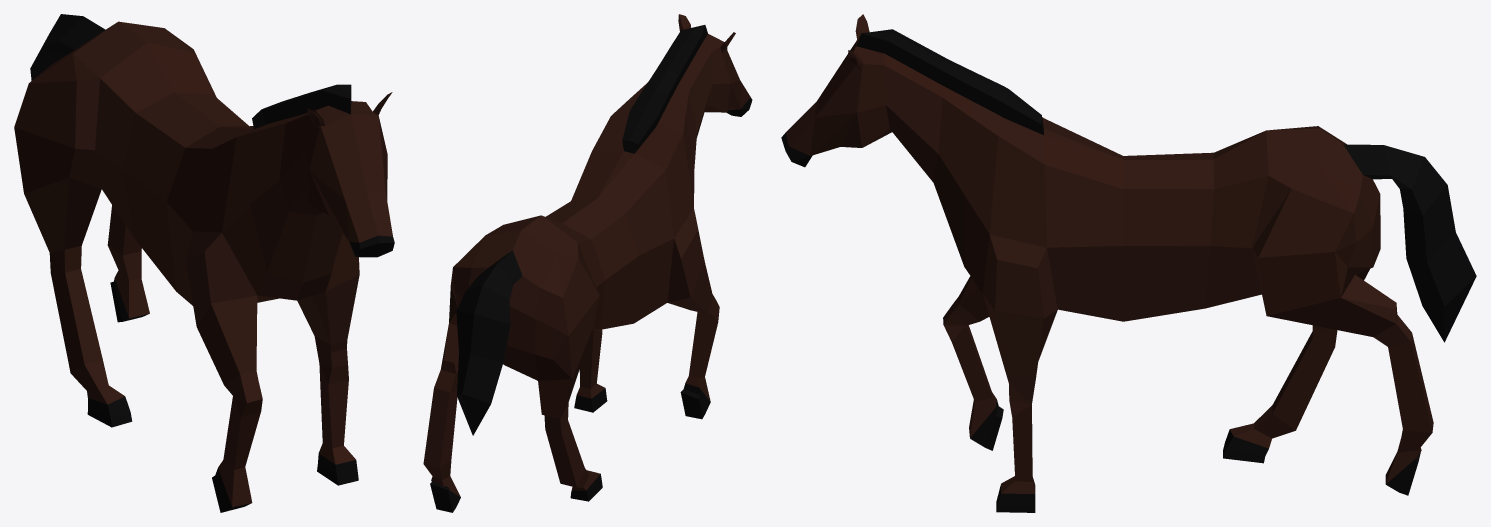
The model's file is Horse_000009.obj.
The picture shows the model from 3 angles, left to right: view 1: azimuth 30°, elevation 25°; view 2: azimuth 150°, elevation 25°; view 3: azimuth 270°, elevation 25°; orthographic projection. The views are drawn at different scales.
Parts seen in each view (by area): view 1: Horse_Cylinder; view 2: Horse_Cylinder; view 3: Horse_Cylinder.
Part boxes in pixels (x1,y1,x2,y2): Horse_Cylinder: [14, 14, 394, 512]; Horse_Cylinder: [423, 14, 752, 512]; Horse_Cylinder: [781, 14, 1476, 512].
Size of the model in its own units: 2.57 by 6.74 by 9.5.
